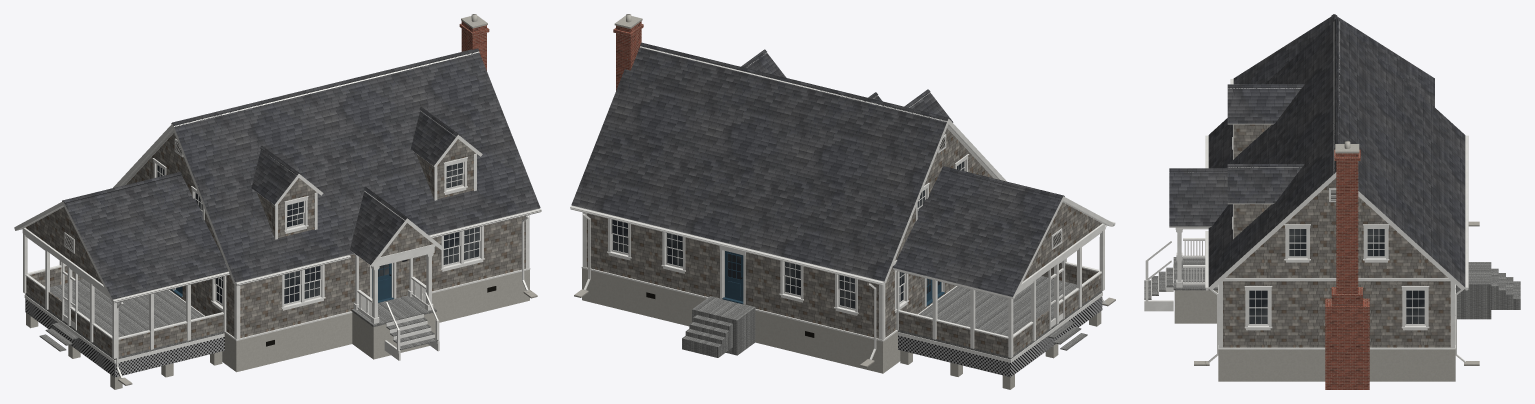
File: sullivan-house.glb
3 views of the same model, side by side, from view 1: azimuth 30°, elevation 25°; view 2: azimuth 150°, elevation 25°; view 3: azimuth 270°, elevation 25° (orthographic). The views are drawn at different scales.
Visible parts, largest first — view 1: Roof, House, Porch; view 2: Roof, House, Porch; view 3: Roof, House, Porch.
Boxes of the visible parts, x1,y1,x2,y2 form: Roof: [14, 14, 541, 385]; House: [126, 133, 530, 372]; Porch: [22, 207, 439, 389]; Roof: [570, 14, 1115, 367]; House: [581, 128, 992, 373]; Porch: [682, 202, 1104, 389]; Roof: [1169, 14, 1479, 389]; House: [1218, 124, 1455, 381]; Porch: [1144, 227, 1520, 323].
Size of the model in its own units: 19.9 by 10.26 by 14.38.
Materials: 16 (14 with a texture image).
